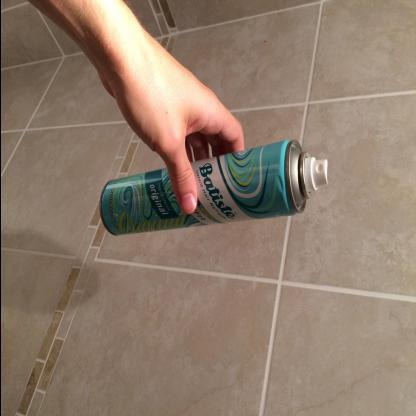metal: (98, 139, 330, 239)
